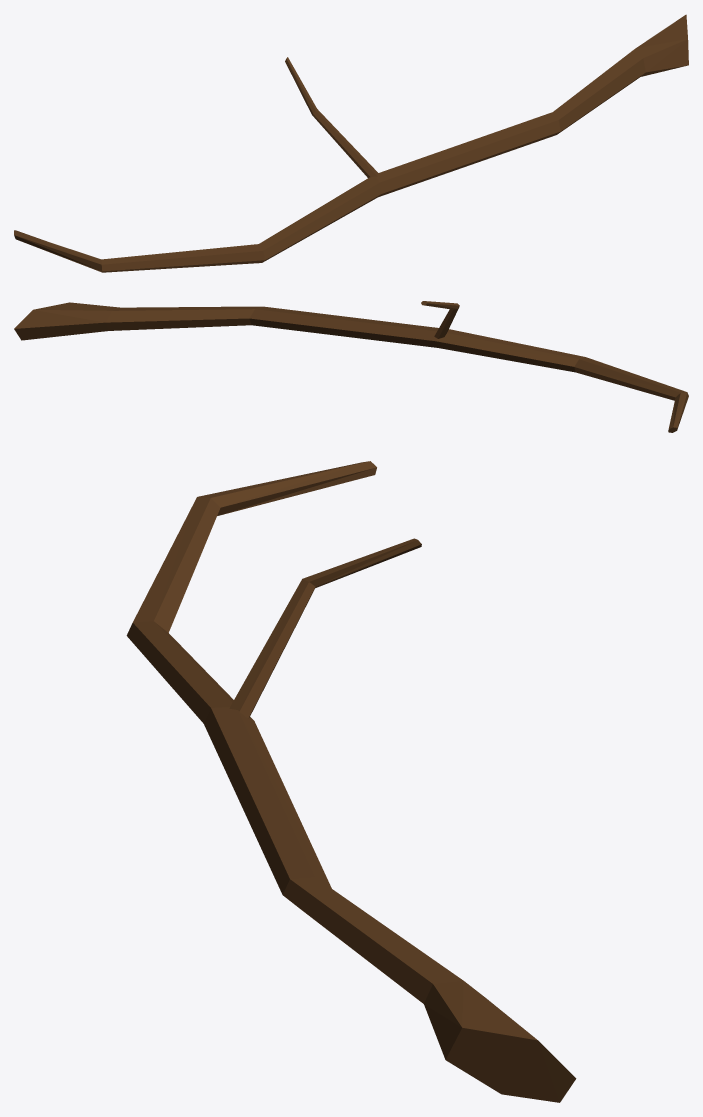
File: tree-birch-branch-b.gltf
3 renders of one model, top to bottom at view 1: azimuth 30°, elevation 25°; view 2: azimuth 150°, elevation 25°; view 3: azimuth 270°, elevation 25°, orthographic. The views are drawn at different scales.
Visible parts, largest first — view 1: tree-birch-branch-b; view 2: tree-birch-branch-b; view 3: tree-birch-branch-b.
Boxes of the visible parts, x1,y1,x2,y2 form: tree-birch-branch-b: (14, 14, 688, 272); tree-birch-branch-b: (14, 301, 688, 432); tree-birch-branch-b: (126, 461, 576, 1102).
Bounding box in the file's own units: 0.00869 × 0.00143 × 0.00277.
